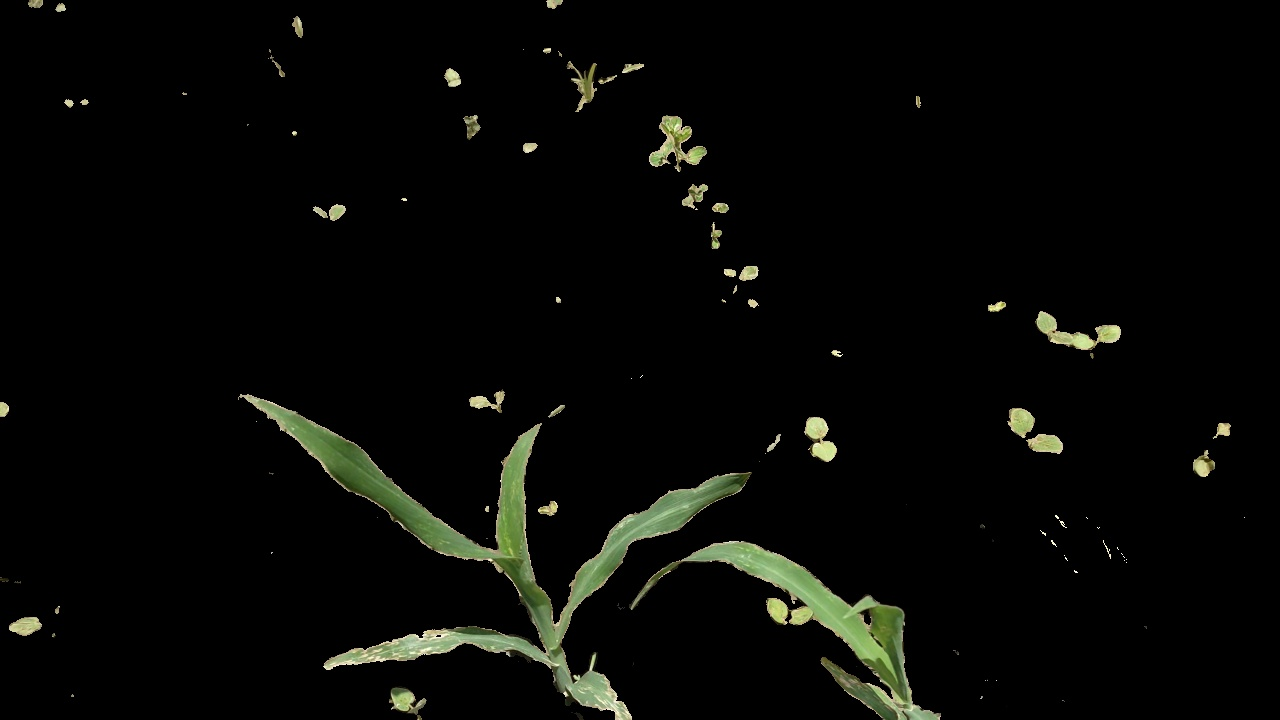crop: (236, 389, 658, 720), (635, 542, 942, 720)
weed: (1031, 301, 1126, 367), (999, 399, 1069, 458), (649, 117, 711, 178), (1192, 419, 1239, 481), (799, 414, 848, 471), (762, 602, 818, 631), (309, 195, 352, 232), (391, 689, 436, 720), (675, 187, 715, 209), (471, 391, 506, 415), (716, 258, 762, 274)
